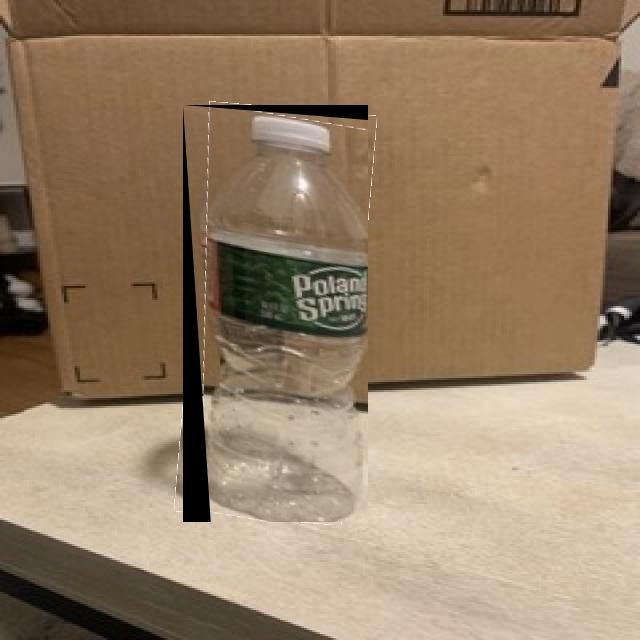water_bottle: (183, 105, 368, 522)
